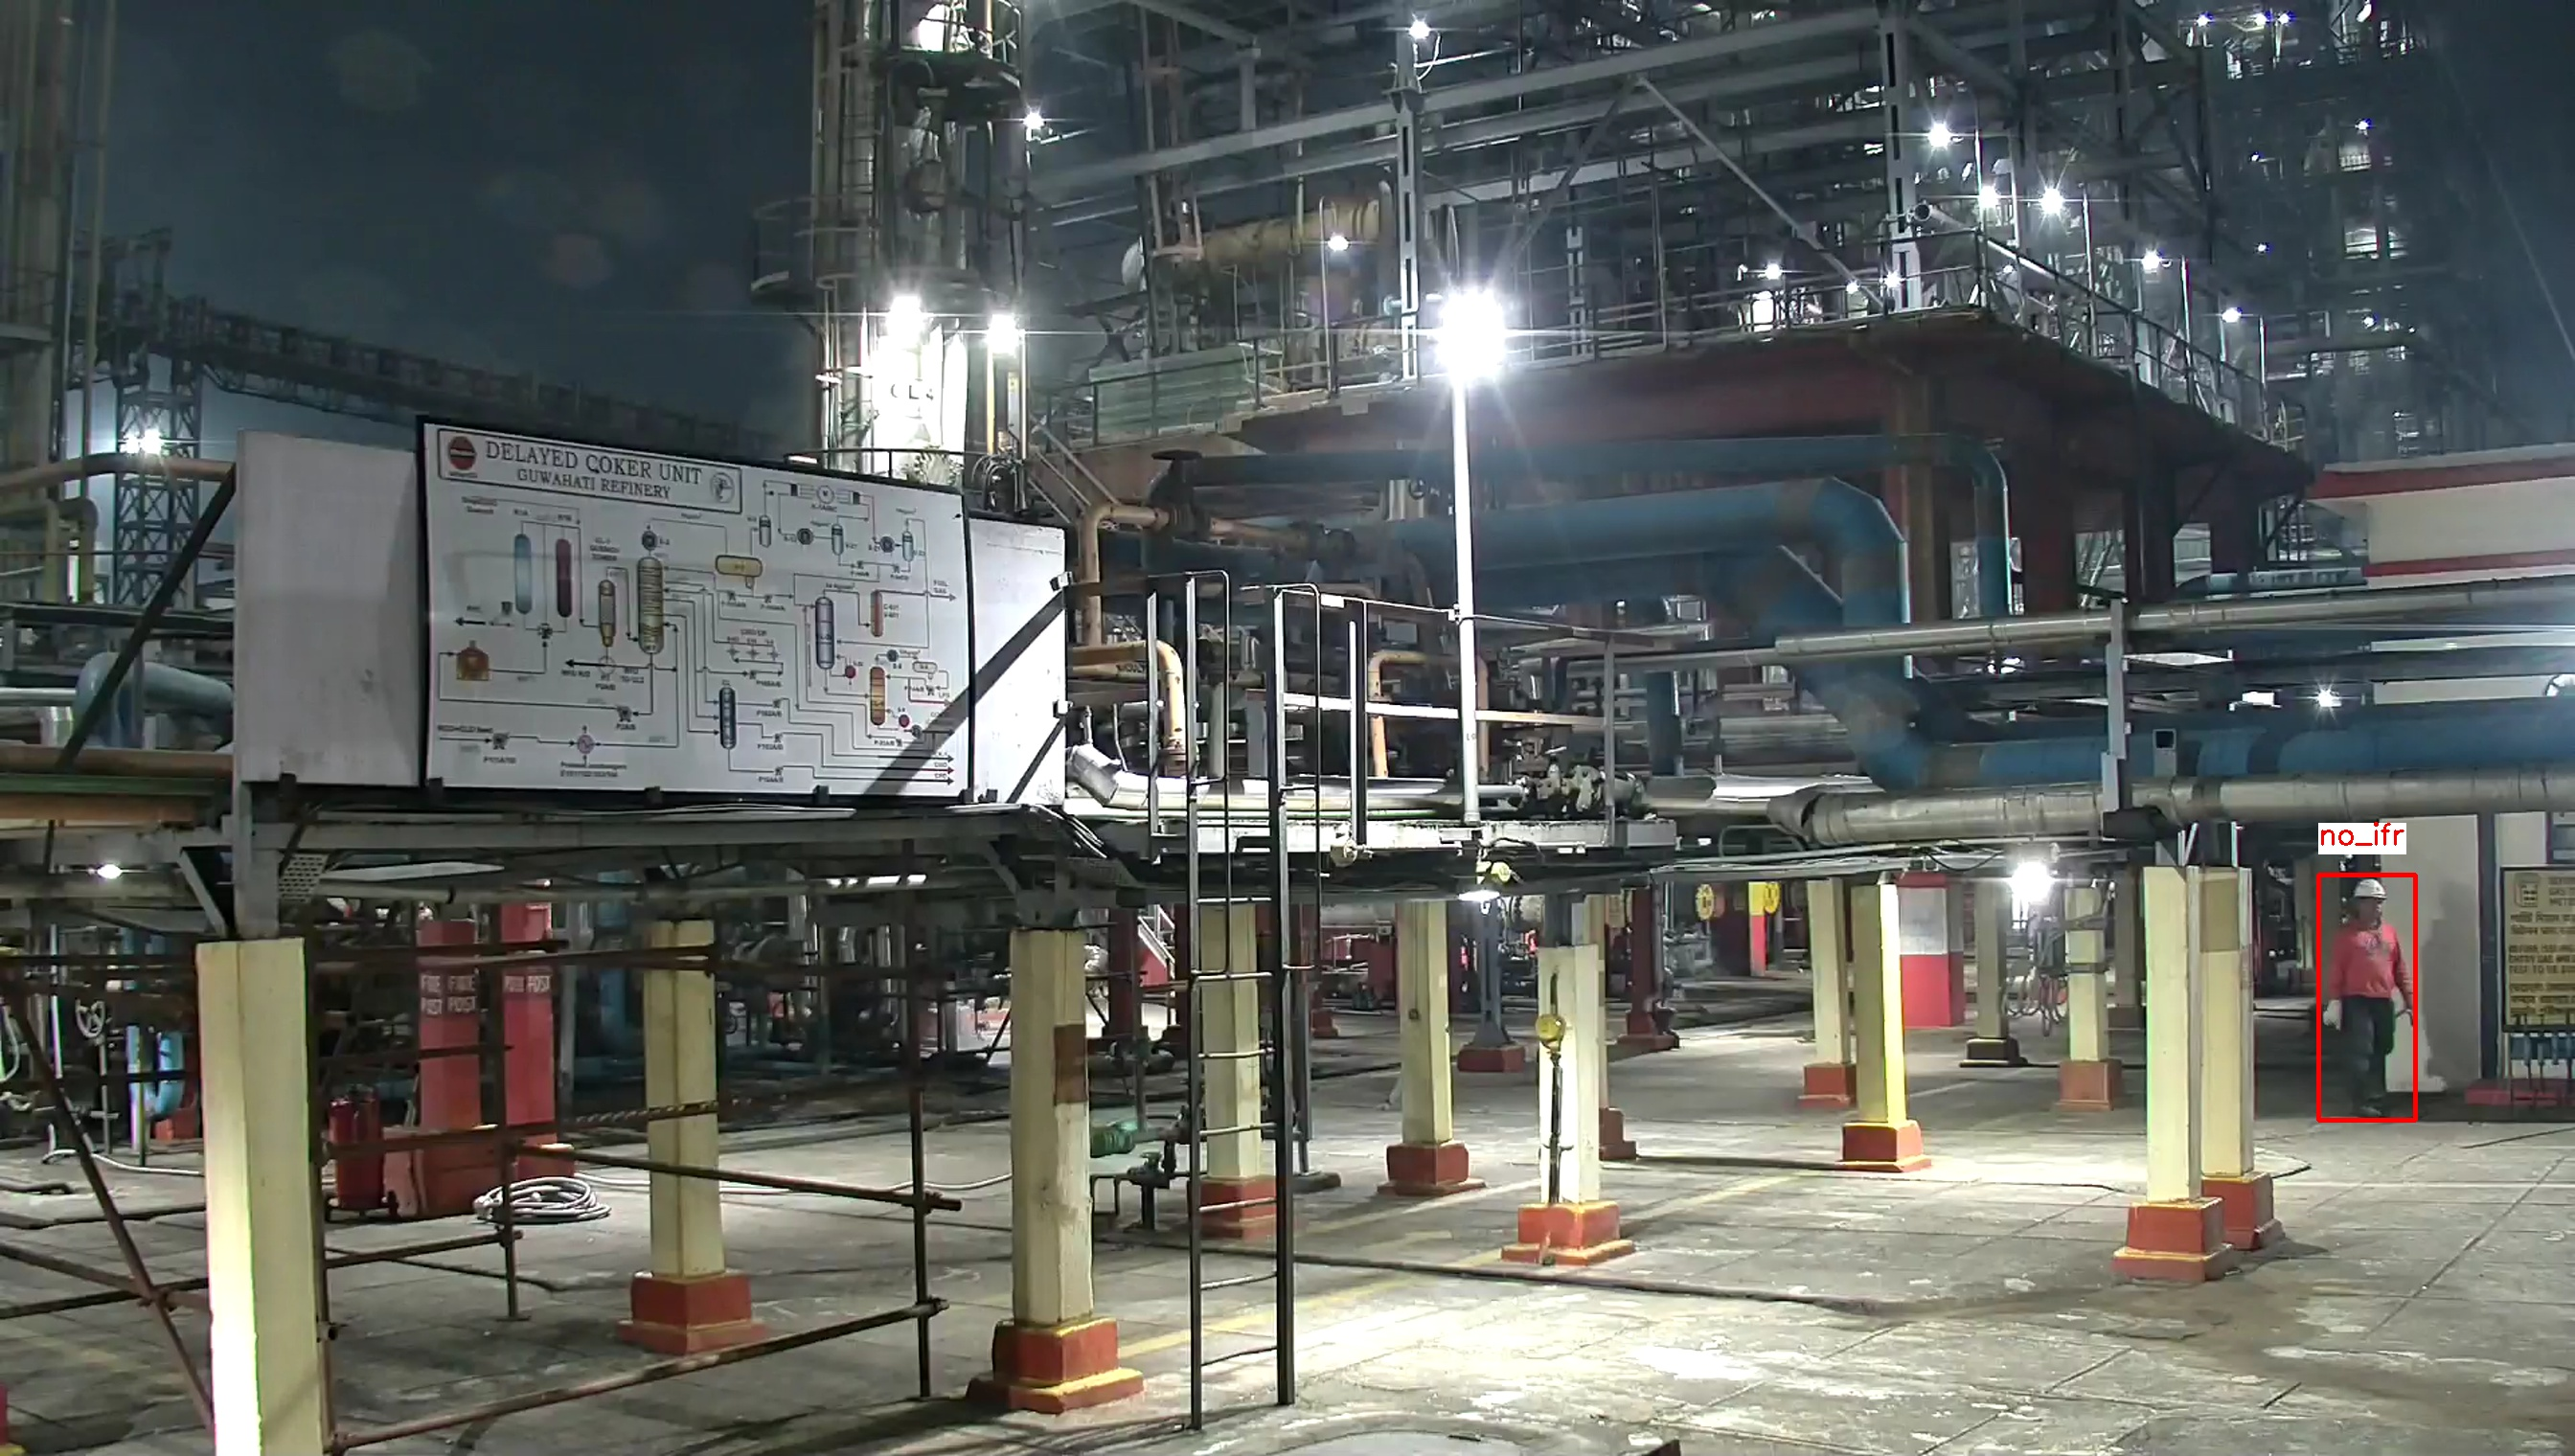Helmets: (2347, 876, 2393, 904)
